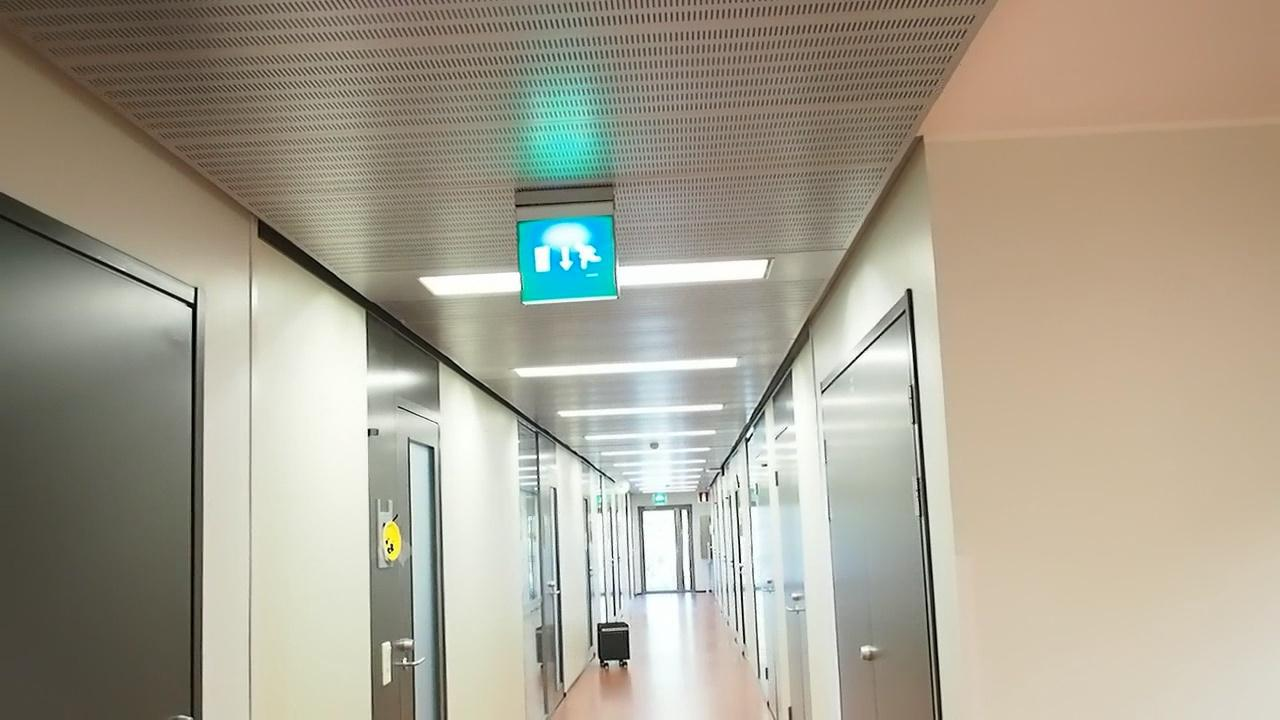exit: (514, 214, 618, 304)
